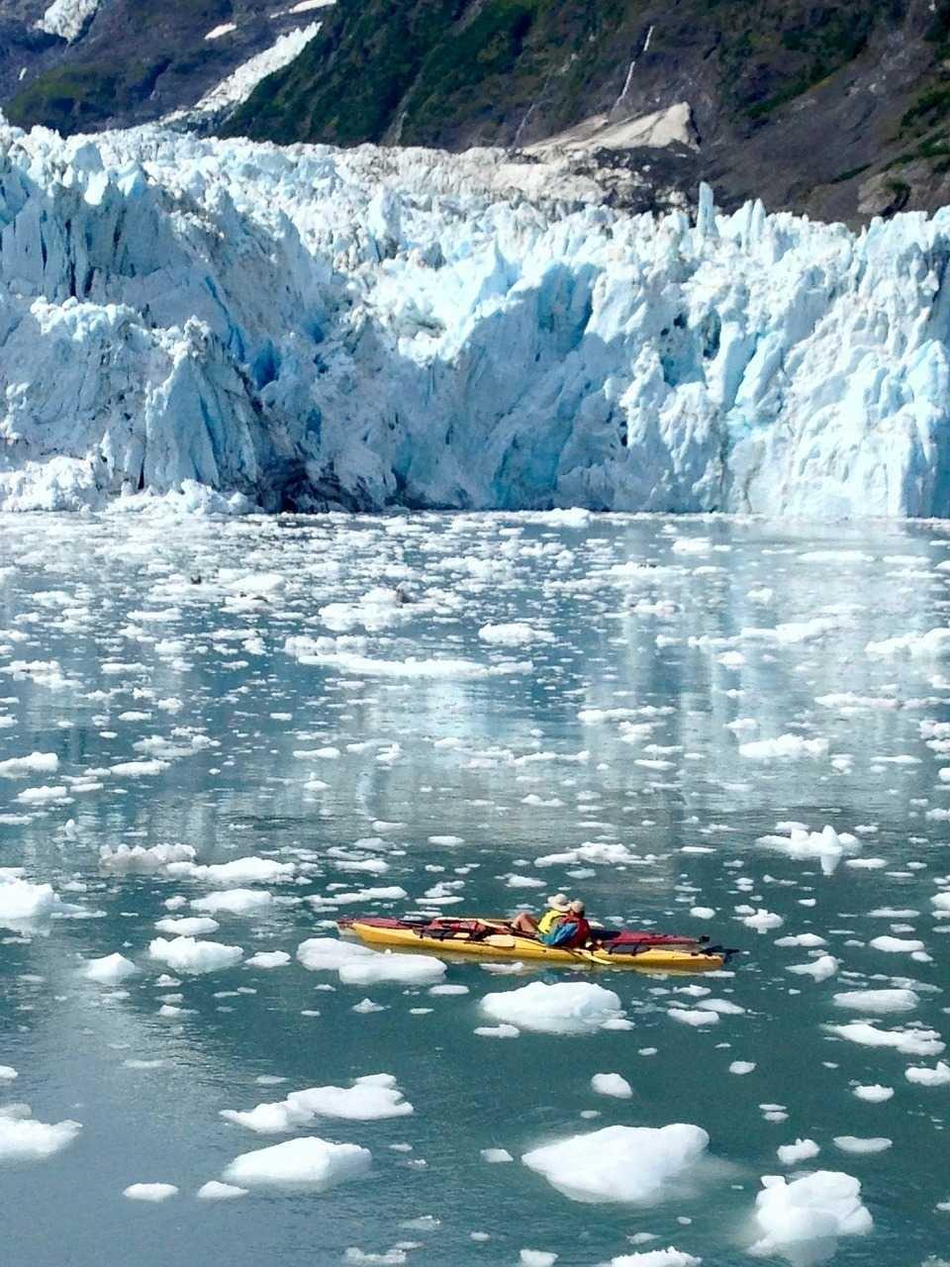kayak: (336, 919, 727, 972)
